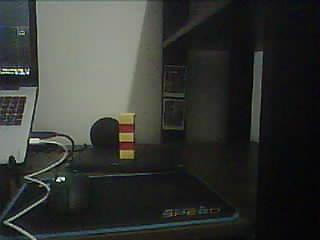lego: (119, 110, 136, 159)
